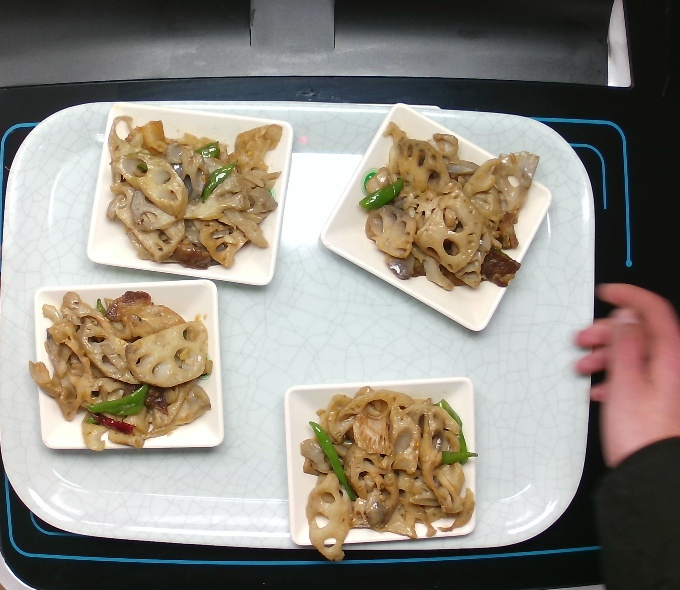wcq-OuPianChaoRou: (296, 379, 487, 569), (355, 111, 546, 299), (21, 279, 216, 461), (101, 110, 288, 275)
